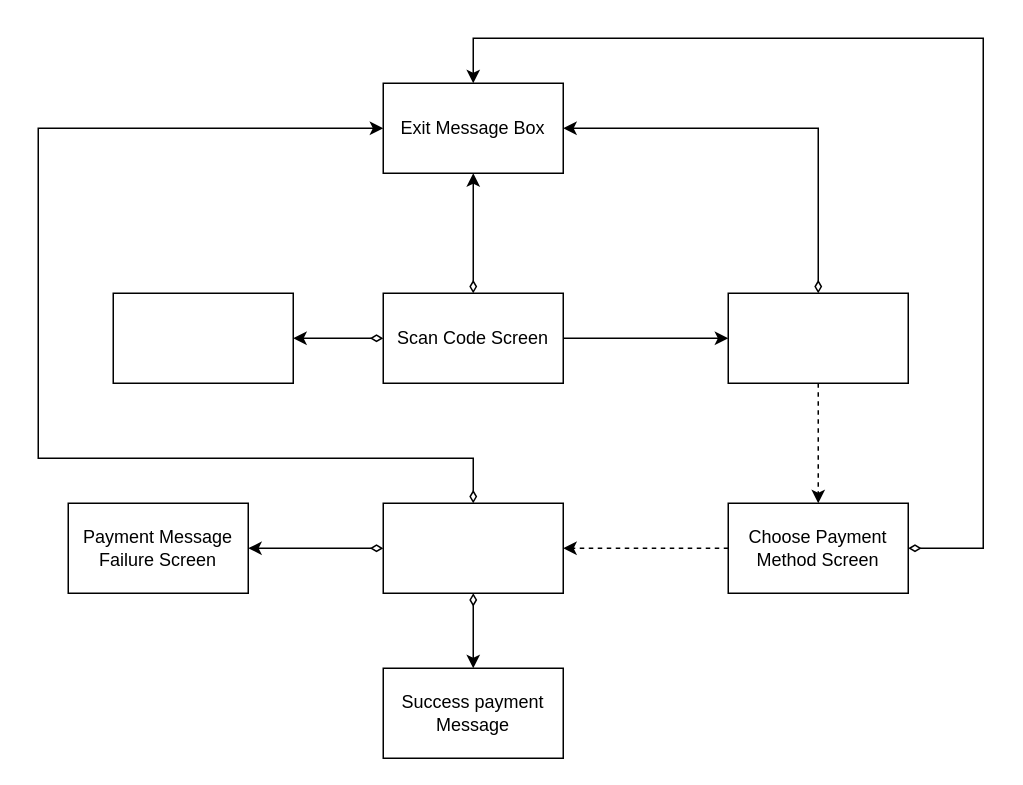
This 1023x785 diagram has some shape labels left out. The centre of each missing label's shape, as x and y in pixels:
"Pay Deposit Screen" goes at point 472,547.
"Rent Bike Screen" goes at point 817,337.
"Scan code failure message" goes at point 202,337.
